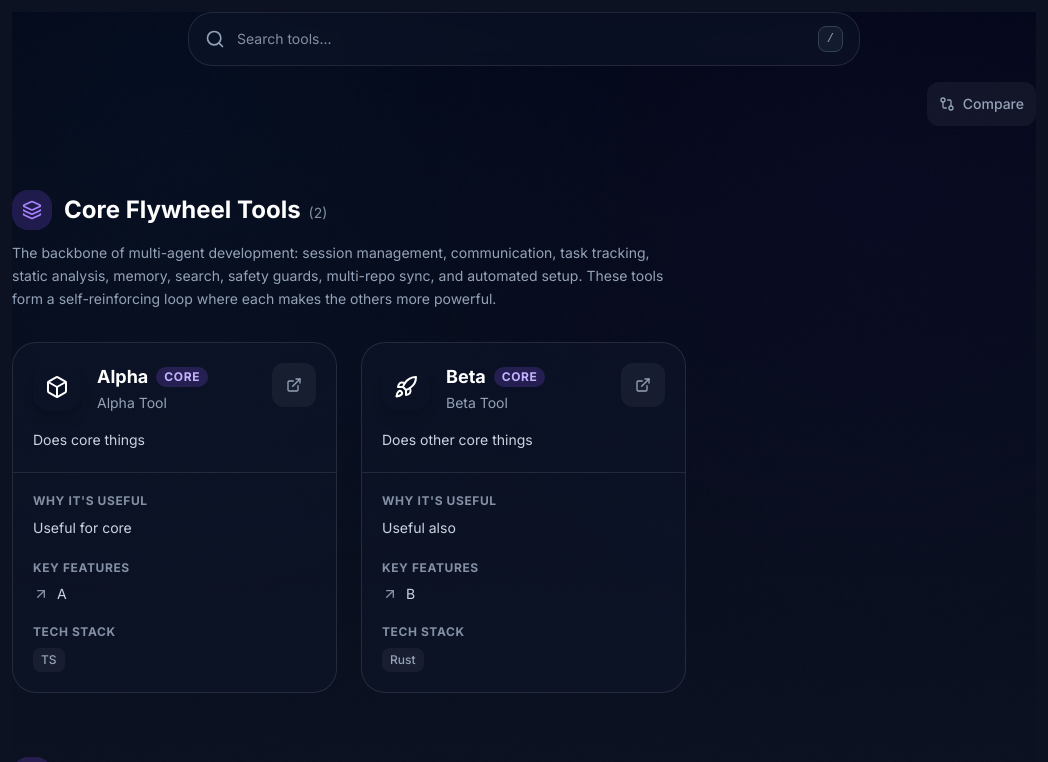
Test: TldrToolGrid › search filtering › clears search when clear button clicked
Type "Alpha" into the field with placeholder "Search tools...". click: point(524, 39)
box: [189,13,859,65]
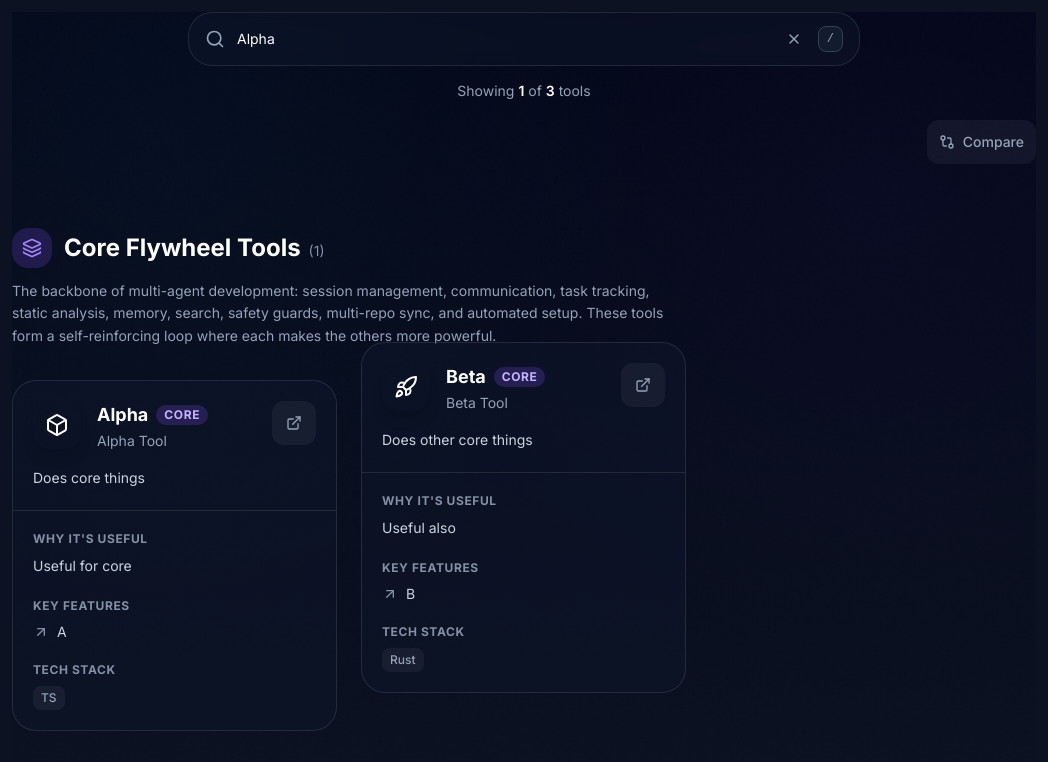
// The clear button in the search bar
Click the button named "Clear search". click: point(794, 39)
box: [778,23,810,55]
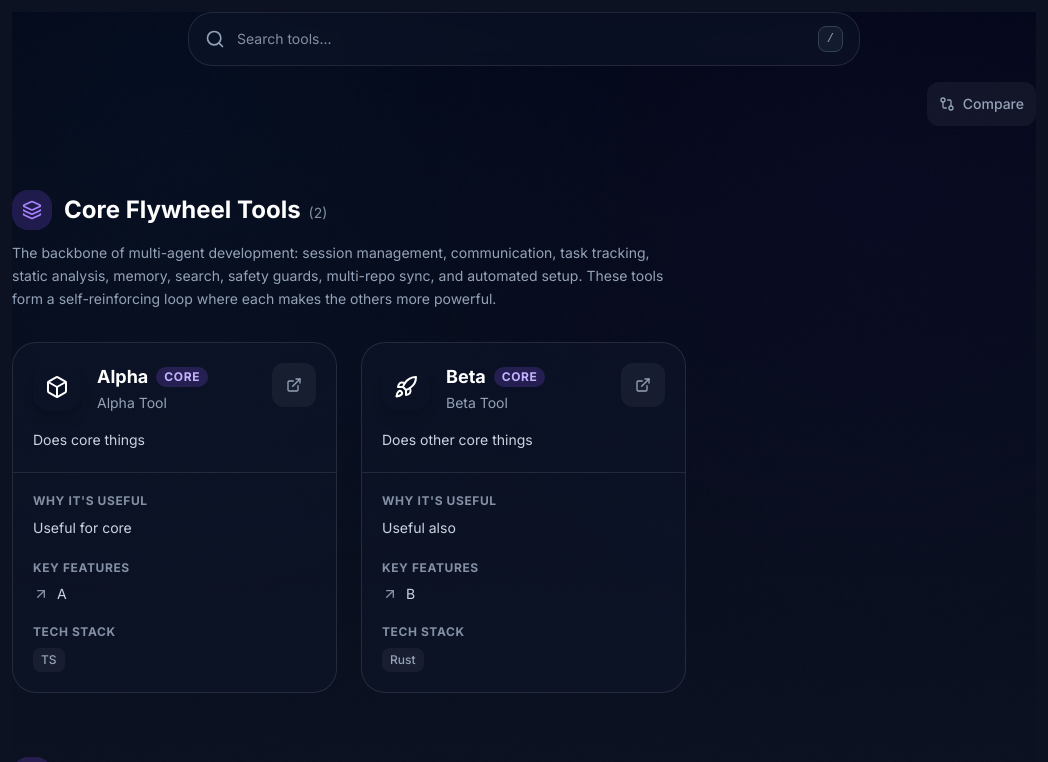
Now the field with placeholder "Search tools..." is empty, box [189,13,859,65]
Now the number of elements with test id "tool-card" is 3
